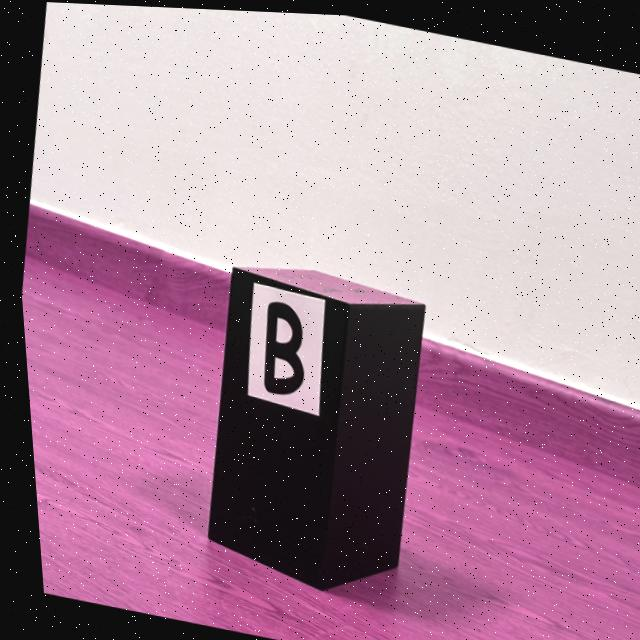B: (258, 299, 298, 393)
